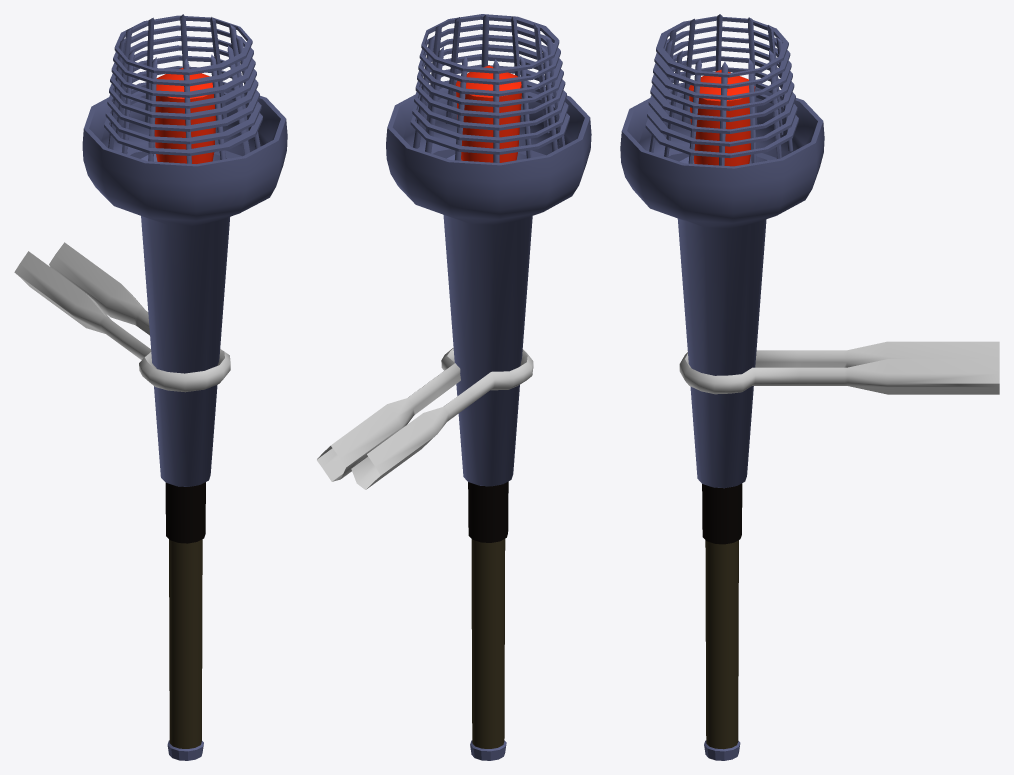
File: TorchWall_22.fbx
3 renders of one model, left to right at view 1: azimuth 30°, elevation 25°; view 2: azimuth 150°, elevation 25°; view 3: azimuth 270°, elevation 25°, orthographic.
Parts seen in each view (by area): view 1: TorchWall_22; view 2: TorchWall_22; view 3: TorchWall_22.
Boxes of the visible parts, box(x1,y1,x2,y2) form: TorchWall_22: box(14, 14, 287, 760); TorchWall_22: box(317, 14, 591, 760); TorchWall_22: box(620, 14, 999, 760).
Bounding box in the file's own units: 15.94 × 29.6 × 61.79.
